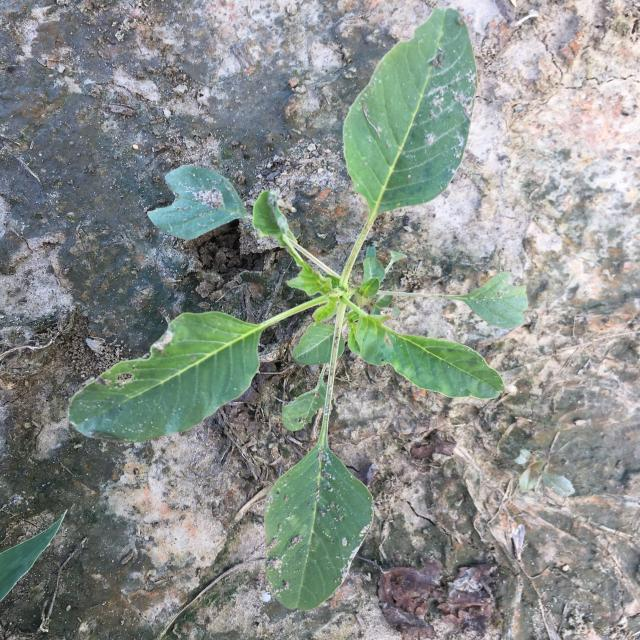PalmerAmaranth: (68, 8, 529, 611)
